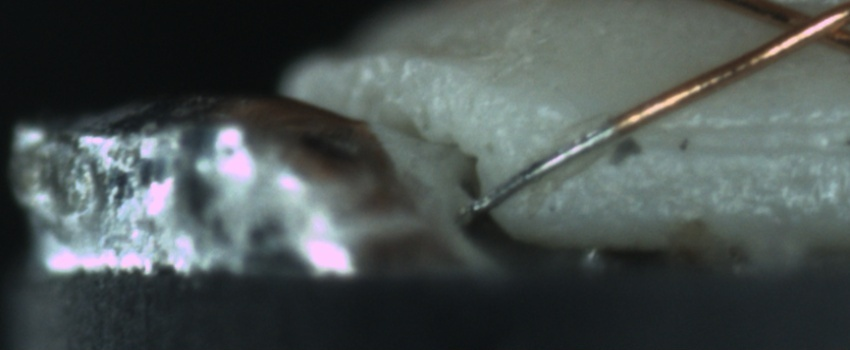CL: (756, 0, 850, 56)
DL: (631, 100, 847, 176)
TS: (471, 119, 622, 216)
TTCW: (464, 92, 664, 220)
